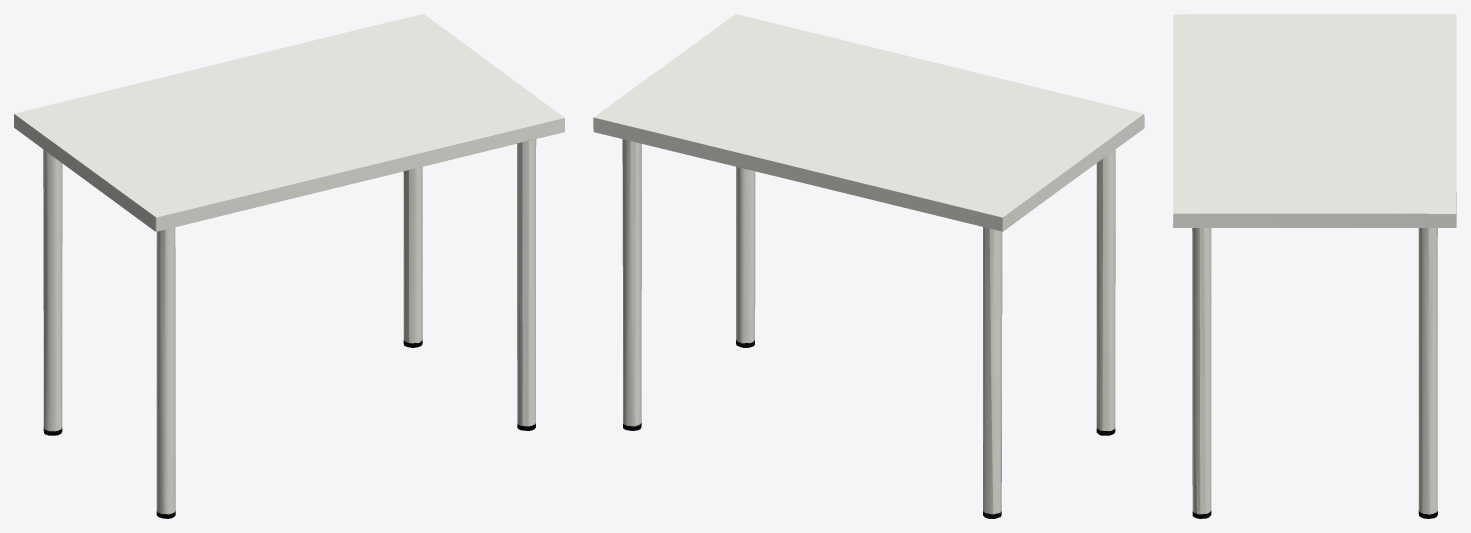
The picture shows the model from 3 angles, left to right: view 1: azimuth 30°, elevation 25°; view 2: azimuth 150°, elevation 25°; view 3: azimuth 270°, elevation 25°; orthographic projection.
Parts seen in each view (by area): view 1: ProcessedMeshNode; view 2: ProcessedMeshNode; view 3: ProcessedMeshNode.
Part boxes in pixels (left/top/right/bottom): ProcessedMeshNode: left=14, top=14, right=564, bottom=518; ProcessedMeshNode: left=593, top=14, right=1144, bottom=518; ProcessedMeshNode: left=1173, top=14, right=1456, bottom=518.
Bounding box in the file's own units: 1 × 0.7341 × 0.6007.
1 material, 1 textured.
